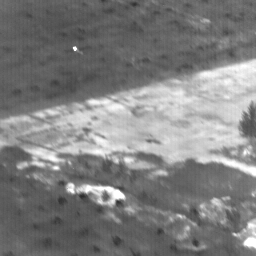aircraft: (74, 48, 76, 50)
